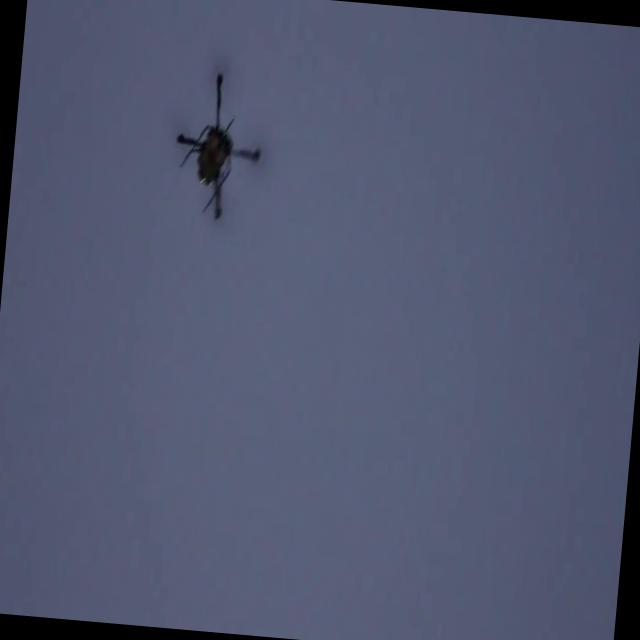drone: (168, 65, 270, 227)
